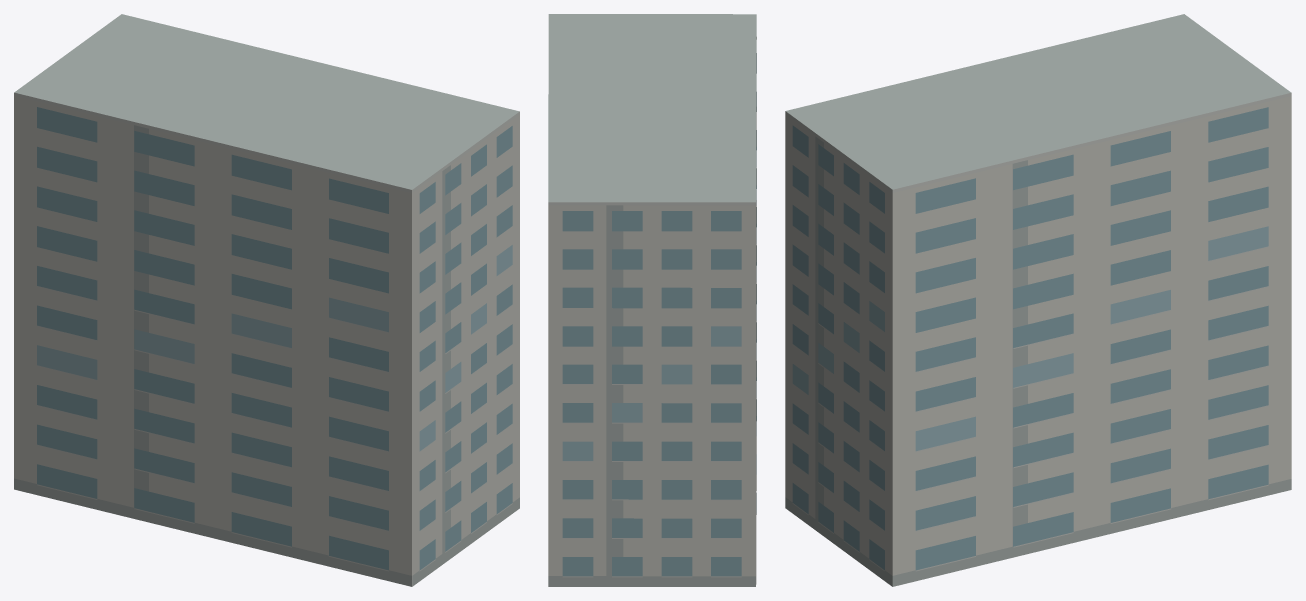
File: residential-4790df81-251c-4cda-a1ea-71eecc7b8110.glb
3 renders of one model, left to right at view 1: azimuth 30°, elevation 25°; view 2: azimuth 150°, elevation 25°; view 3: azimuth 270°, elevation 25°, orthographic. The views are drawn at different scales.
Visible parts, largest first — view 1: residential-4790df81-251c-4cda-a1ea-71eecc7b8110.tmp; view 2: residential-4790df81-251c-4cda-a1ea-71eecc7b8110.tmp; view 3: residential-4790df81-251c-4cda-a1ea-71eecc7b8110.tmp.
Boxes of the visible parts, x1,y1,x2,y2 form: residential-4790df81-251c-4cda-a1ea-71eecc7b8110.tmp: (14, 14, 519, 586); residential-4790df81-251c-4cda-a1ea-71eecc7b8110.tmp: (548, 14, 756, 586); residential-4790df81-251c-4cda-a1ea-71eecc7b8110.tmp: (785, 14, 1291, 586).
Size of the model in its own units: 28.48 by 30 by 34.65.
